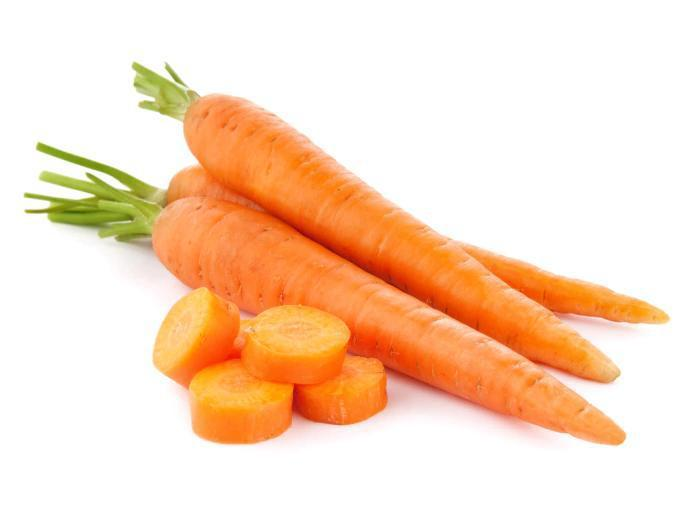carrot: (154, 68, 655, 434), (56, 162, 659, 446)
